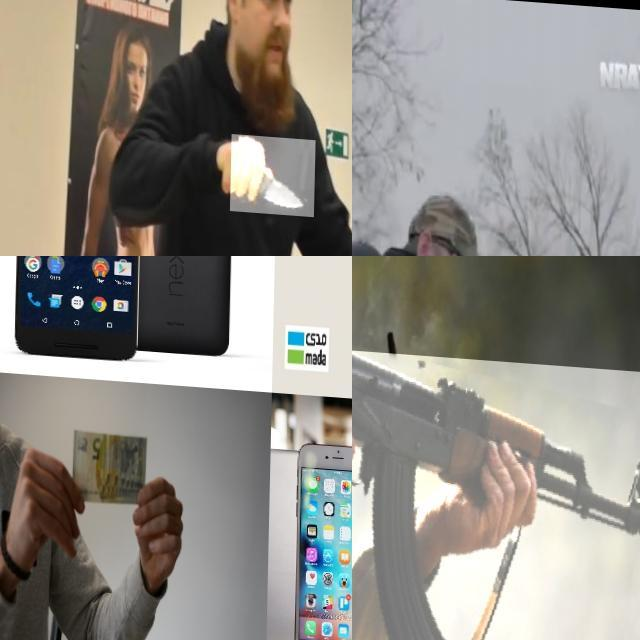-: (232, 127, 318, 209)
gun-knife-thesis - v11 Yolov5 augmented: (352, 340, 640, 640), (352, 356, 640, 640)
